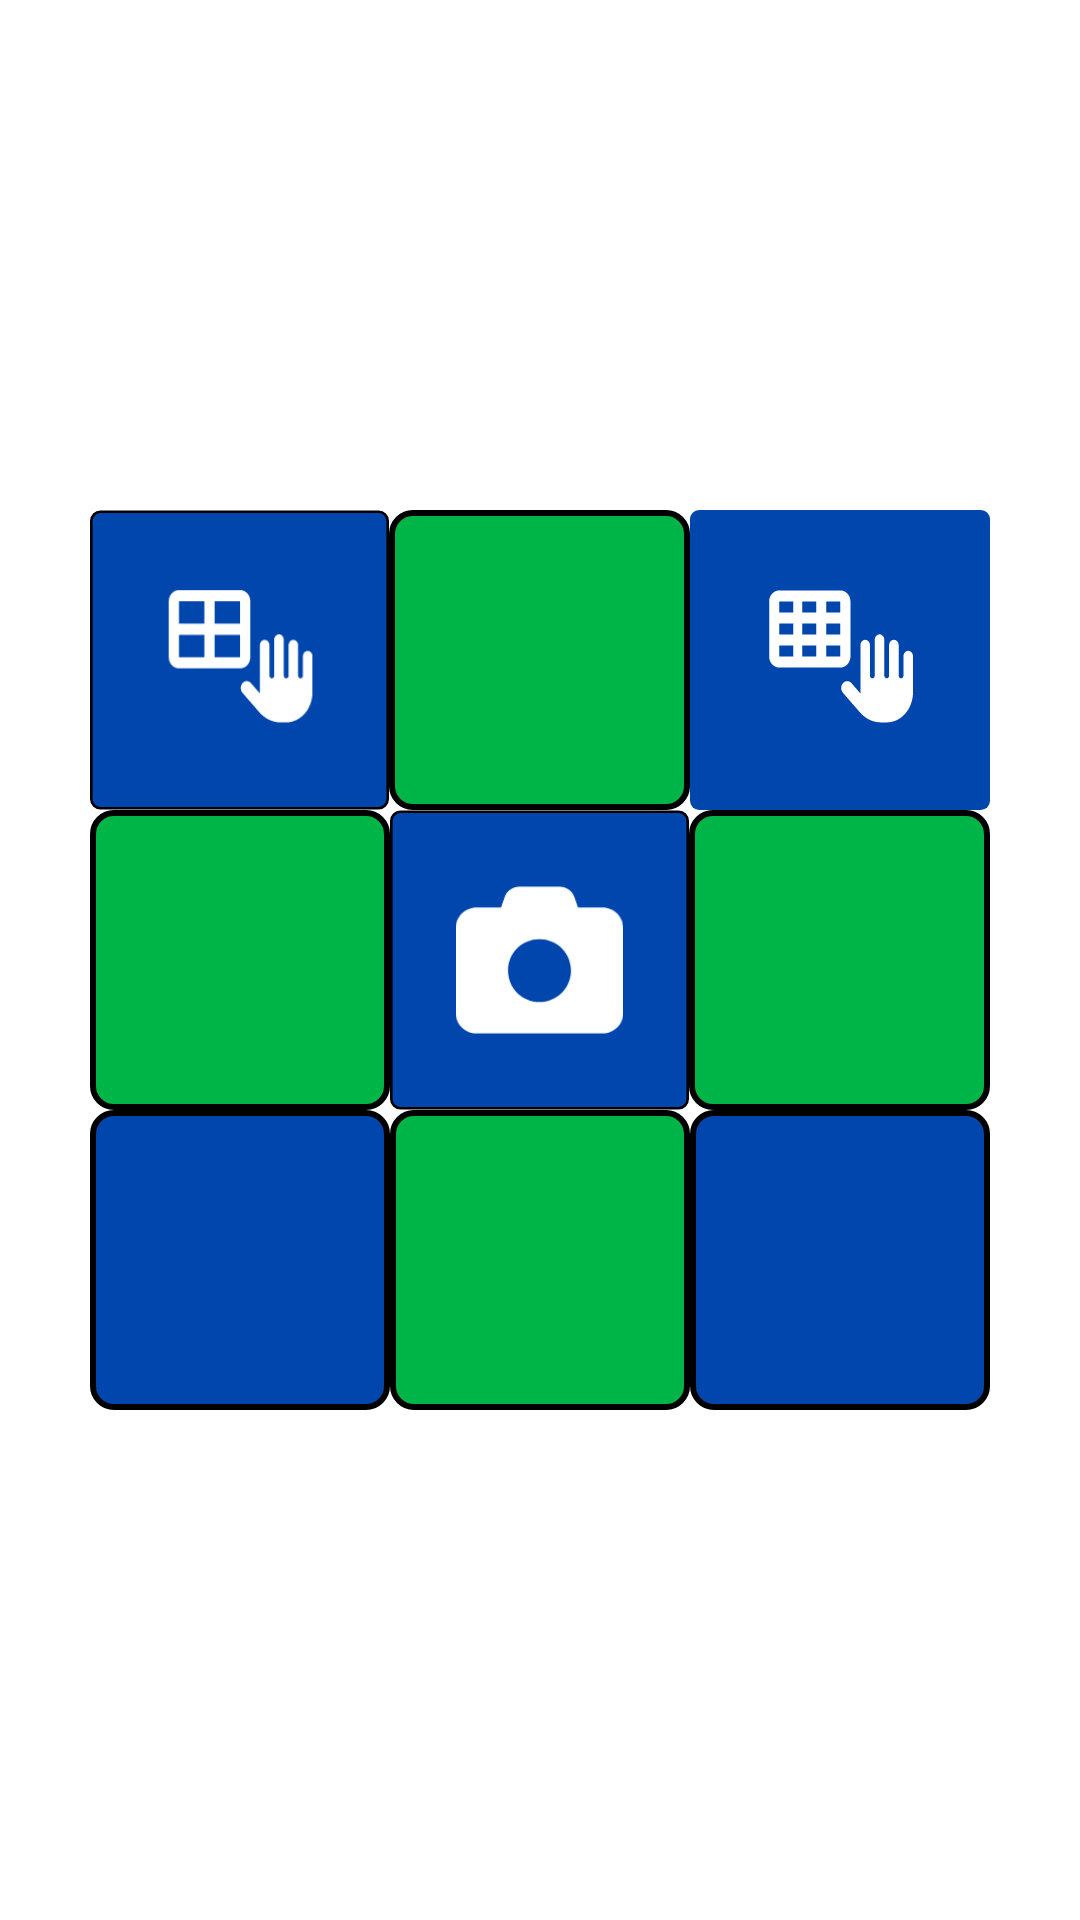

Where to tap for icons on this 1080px×1920px app screen, as (x,y):
camera tile: (539,960)
manual tile: (239,660), (840,660)
